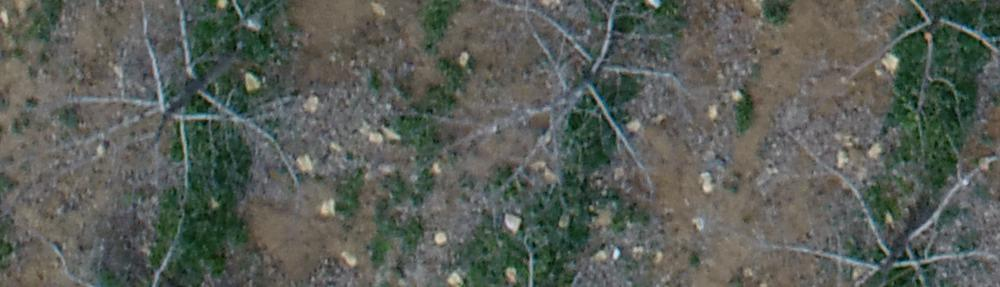apple: (28, 10, 325, 269), (427, 10, 705, 199), (770, 131, 990, 277), (802, 10, 990, 128)
